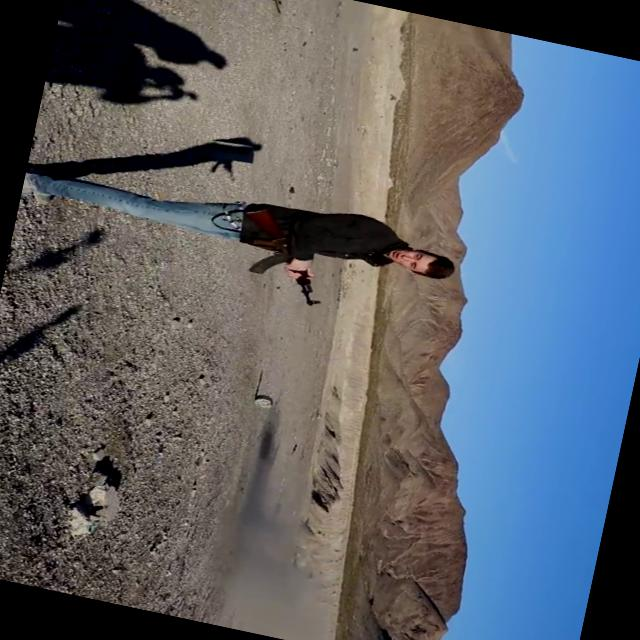long weapon: (204, 197, 352, 311)
